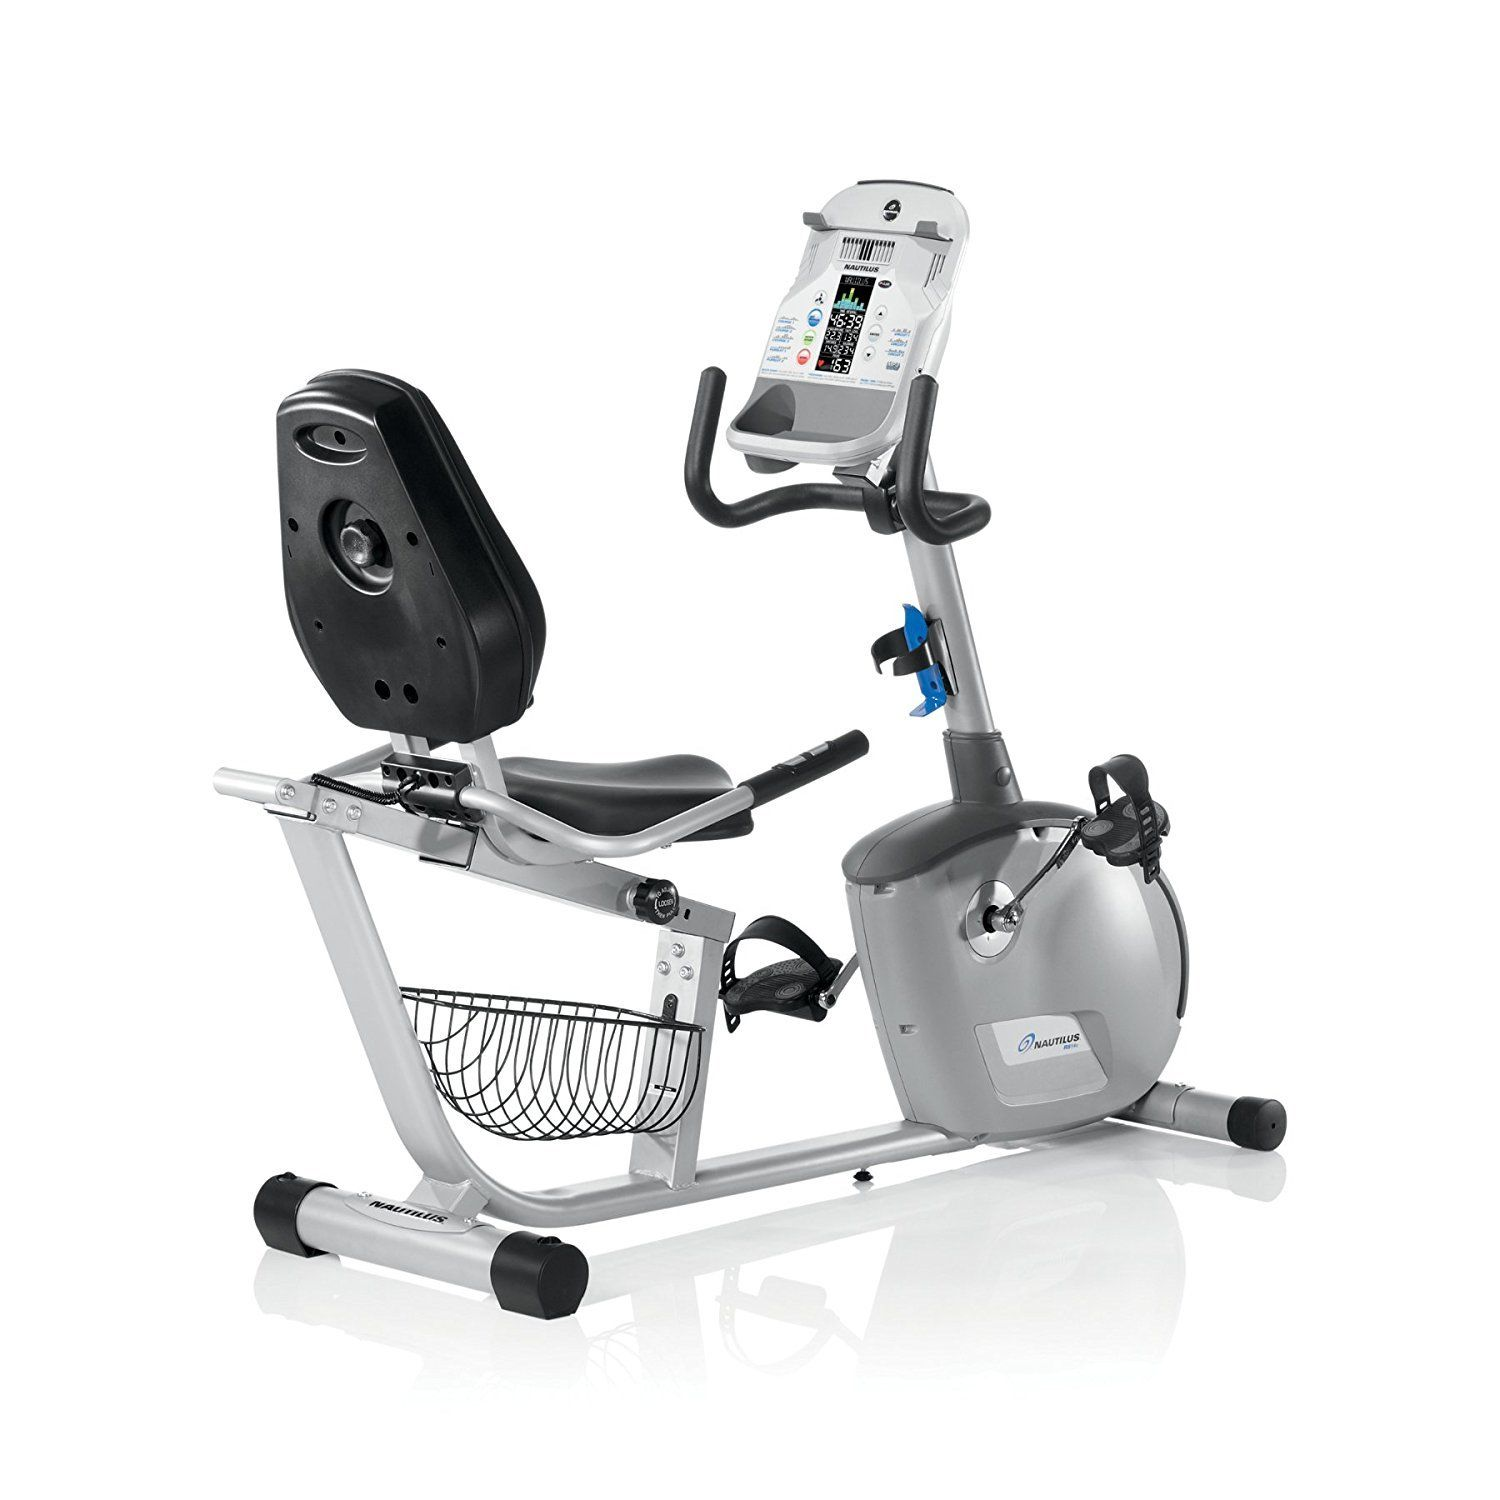gym_bike: (253, 174, 1282, 1321)
